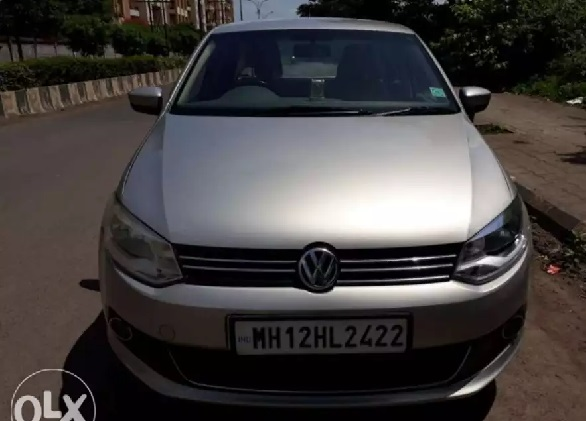licenseplate: (226, 312, 411, 359)
